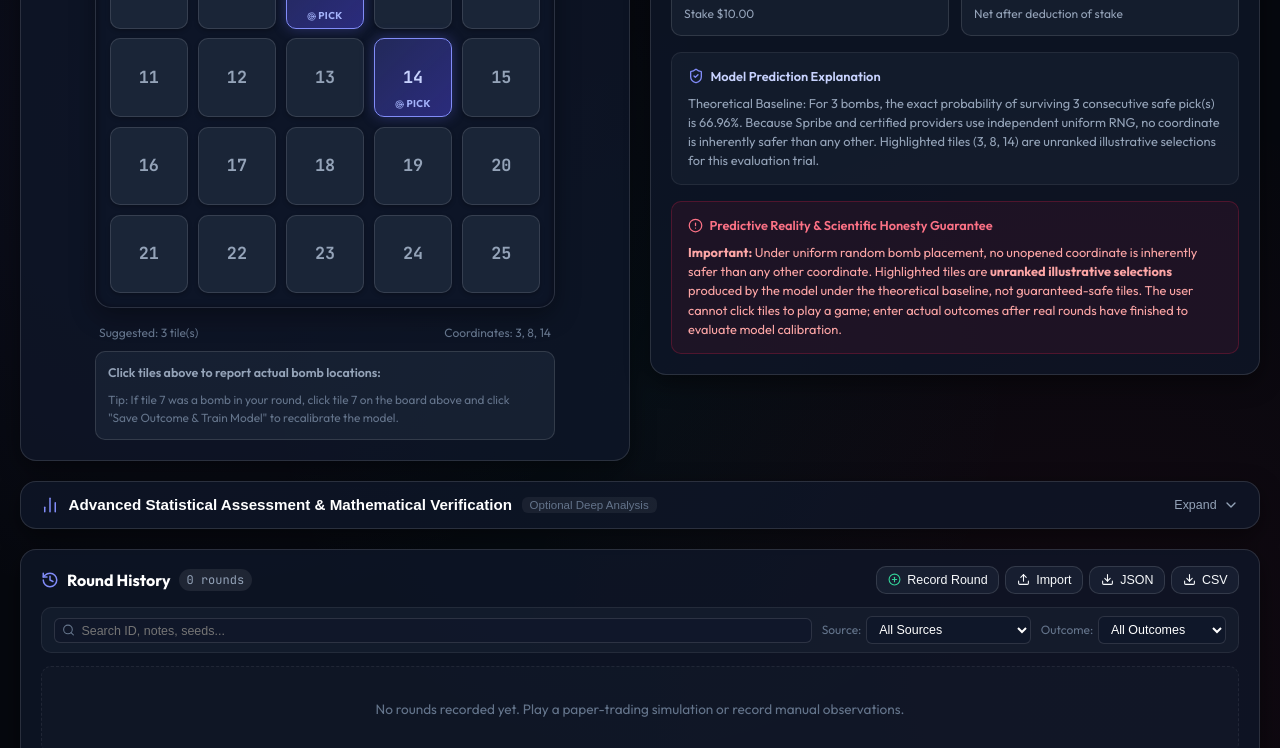
Mines 5x5 UI Workflow and Model-Driven Analysis › Advanced statistics accordion expands and displays sub-tabs and honesty guides
(page scrolled)
What coordinates should you click on to do the following:
click the button "Advanced Statistical Assessment"
I would click on:
 (640, 505)
Its box is 21,482 -> 1259,528.
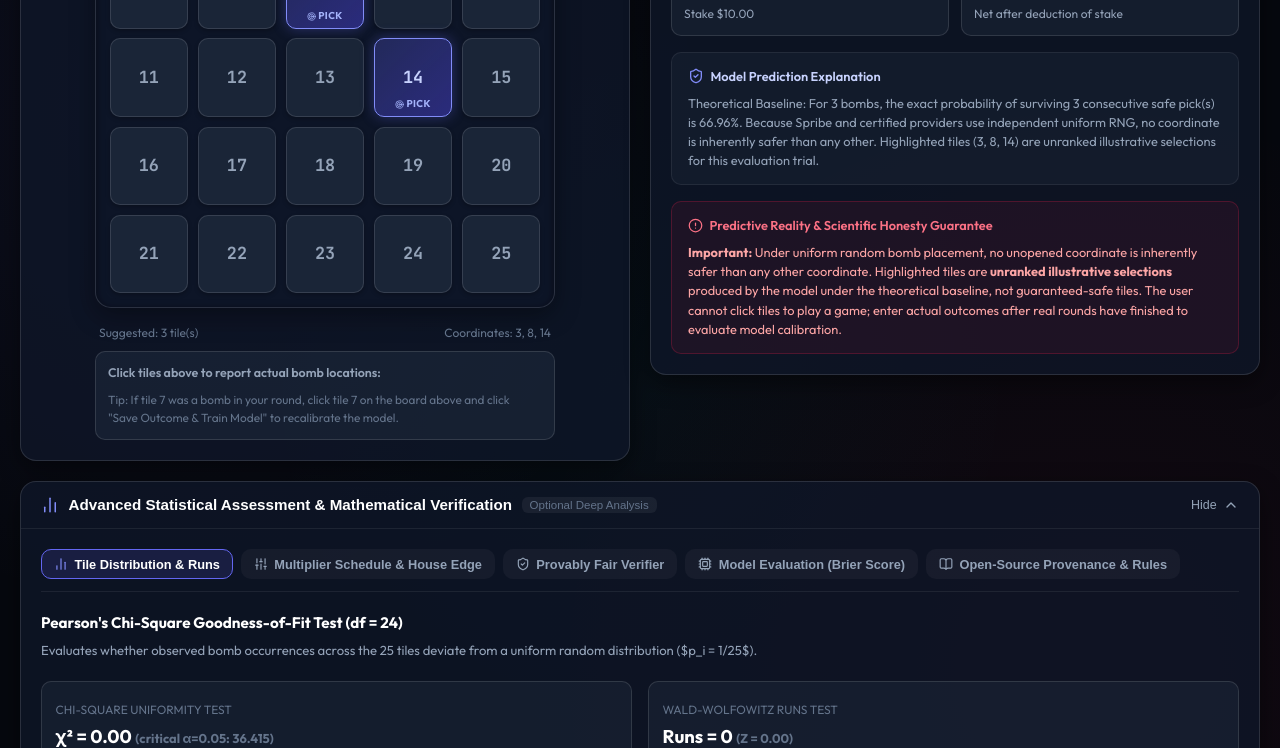
Expected: the heading "Pearson's Chi-Square Goodness-of-Fit Test (df = 24)" is shown, 41,613 -> 403,632
Note: Click Multiplier Schedule sub-tab
What coordinates should you click on to do the following:
click the button "Multiplier Schedule & House Edge"
I would click on:
 (368, 564)
Its box is 241,549 -> 495,579.
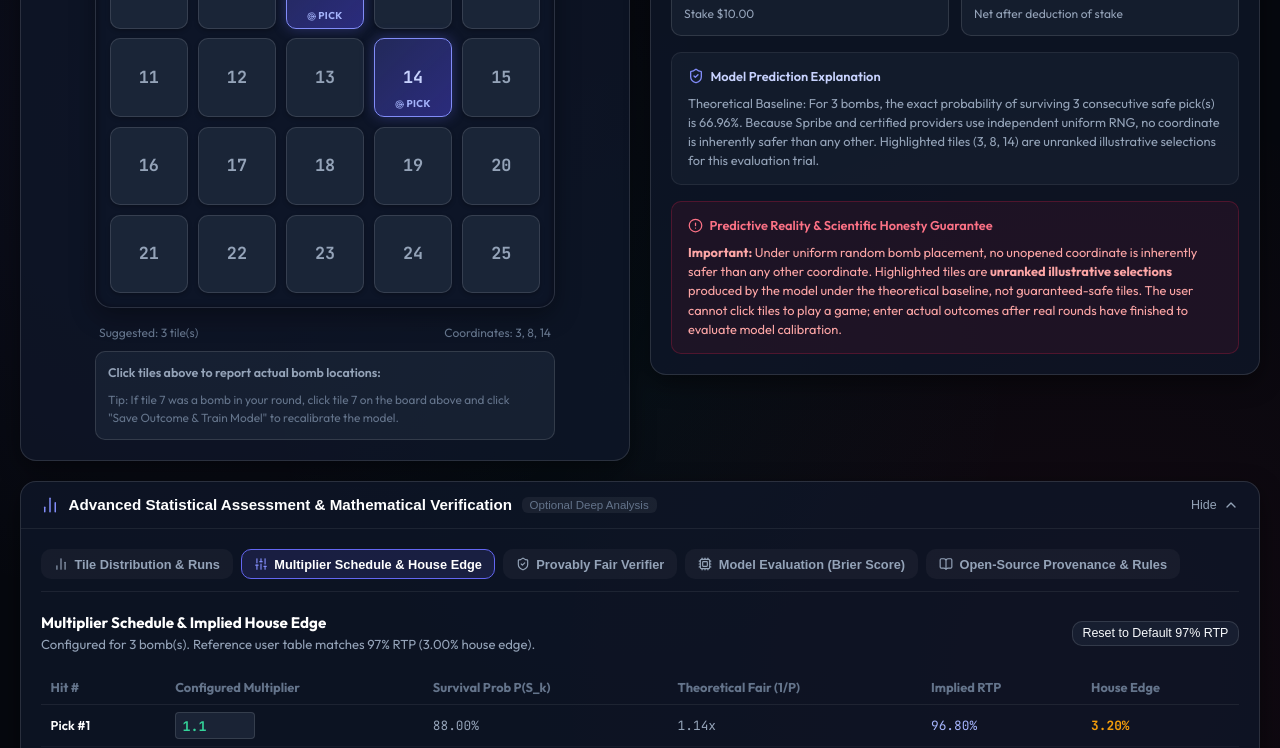
Expected: the text "Configured for 3 bomb" is shown, 41,635 -> 535,655
Note: Click Provably Fair Verifier sub-tab
What coordinates should you click on to do the following:
click the button "Provably Fair Verifier"
I would click on:
 (590, 564)
Its box is 503,549 -> 677,579.
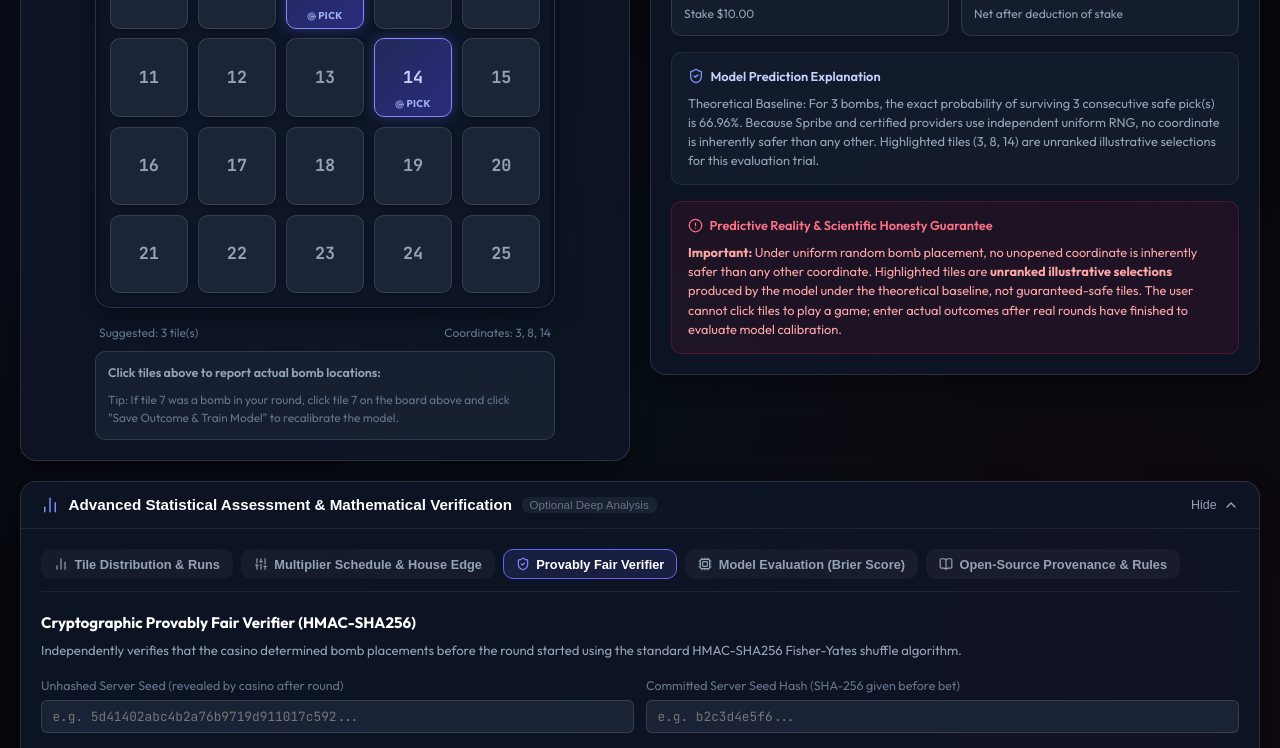
Expected: the heading "Cryptographic Provably Fair Verifier (HMAC-SHA256)" is shown, 41,613 -> 416,632
